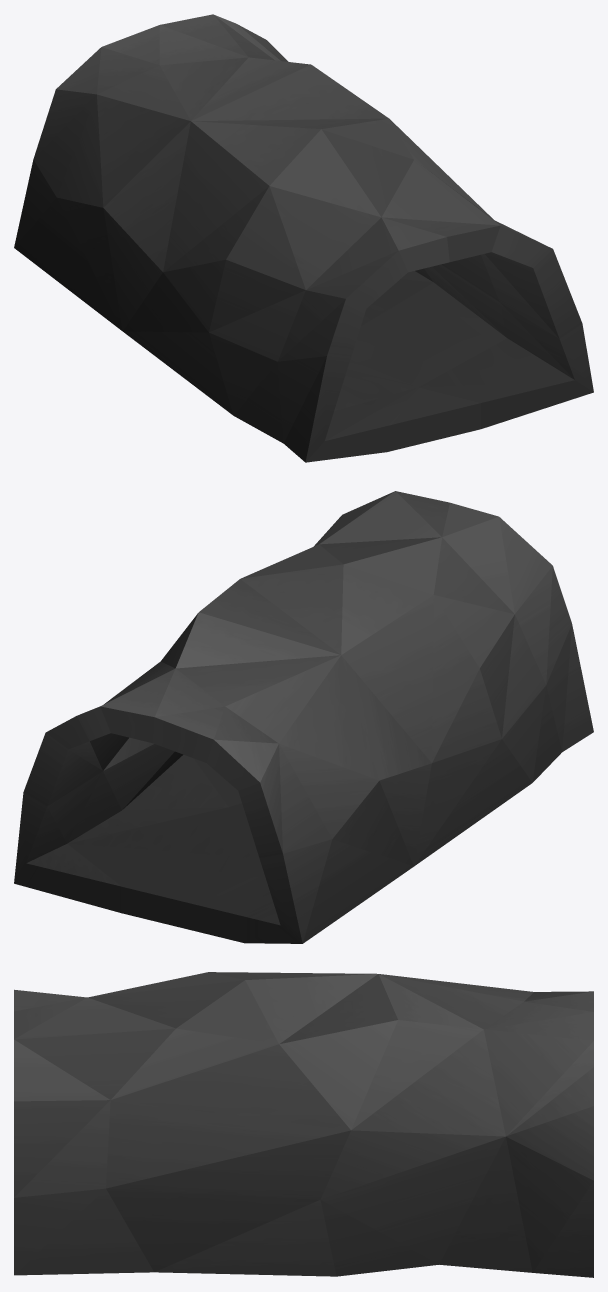
The model's file is GL-Cave-part-03-LOD3.fbx.
3 renders of one model, top to bottom at view 1: azimuth 30°, elevation 25°; view 2: azimuth 150°, elevation 25°; view 3: azimuth 270°, elevation 25°, orthographic.
Parts seen in each view (by area): view 1: GL_Cave_part_03; view 2: GL_Cave_part_03; view 3: GL_Cave_part_03.
Boxes of the visible parts, box(x1,y1,x2,y2) form: GL_Cave_part_03: box(14, 14, 593, 462); GL_Cave_part_03: box(14, 491, 593, 943); GL_Cave_part_03: box(14, 972, 593, 1277).
Size of the model in its own units: 3.53 by 2.6 by 6.
